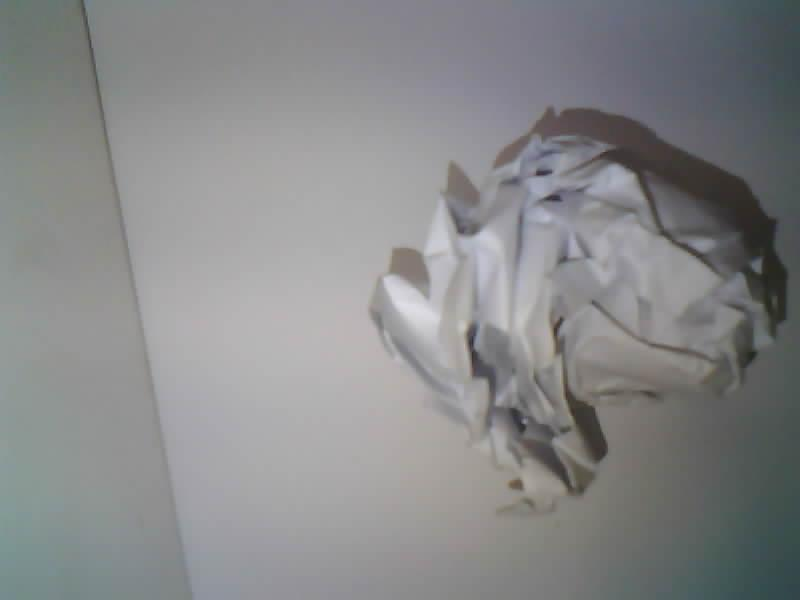biodegradable: (370, 135, 780, 511)
